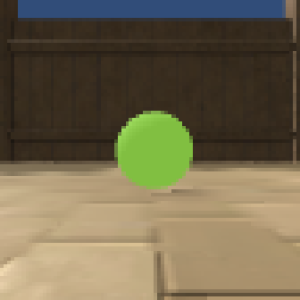goodGoal: (109, 104, 196, 194)
